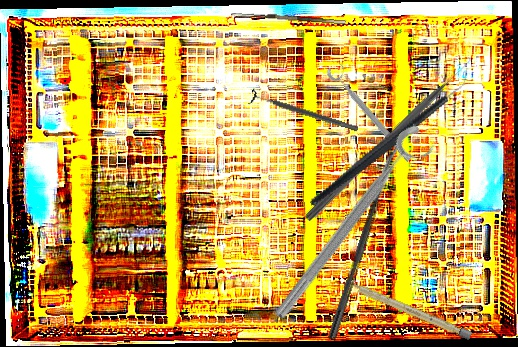Chopper: (285, 65, 496, 208)
Fixation Ring: (268, 120, 441, 333), (324, 59, 420, 165), (247, 88, 361, 138)
Hook Surgical: (230, 10, 346, 31)
Pusher: (303, 55, 477, 225)
Scalpel Handle: (343, 278, 473, 341)
Surgical Spoon: (327, 137, 402, 342)
